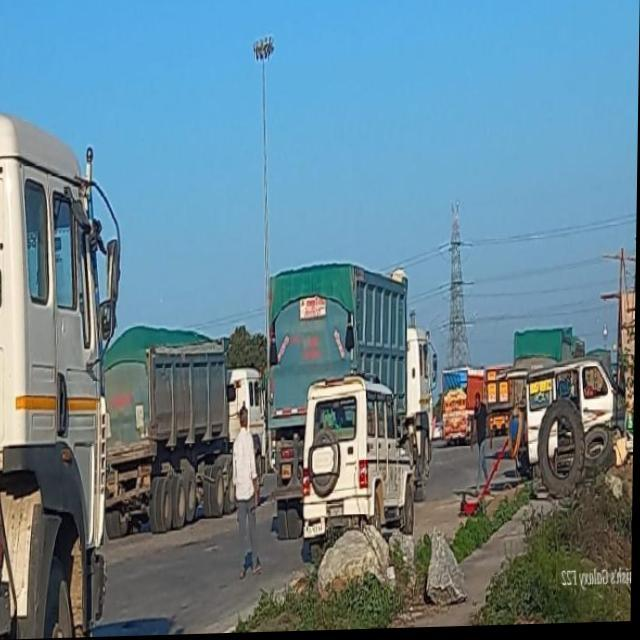covered: (267, 267, 410, 449), (103, 328, 229, 530), (516, 333, 587, 383)
